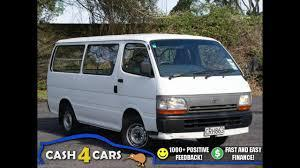Van: (46, 35, 257, 146)
